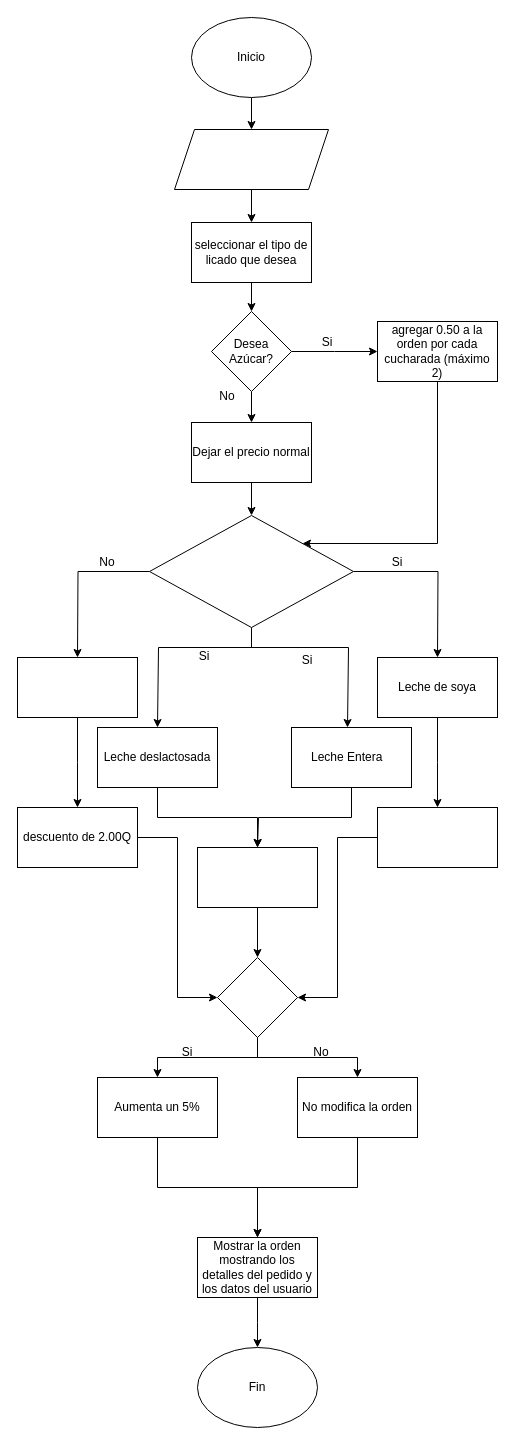
The diagram is 515 pixels wide and 1445 high, and some of its shapes have lost their labels. Here are the shapes that lost their labels. From the top down, the box of each, then its label:
(174, 128, 328, 190): precio = 20.00Q tamaño ingredientes sabores
(148, 514, 354, 628): Desea modificar el tipo de leche?
(16, 656, 138, 718): Sin leche
(376, 806, 498, 868): Se le agregan 3.00Q a la orden
(196, 846, 318, 908): No modifica el precio
(216, 956, 298, 1038): Lo desea Agrandar?
